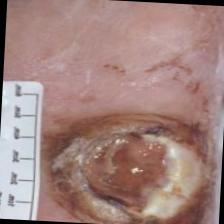wound-ulser: (46, 95, 220, 224)
